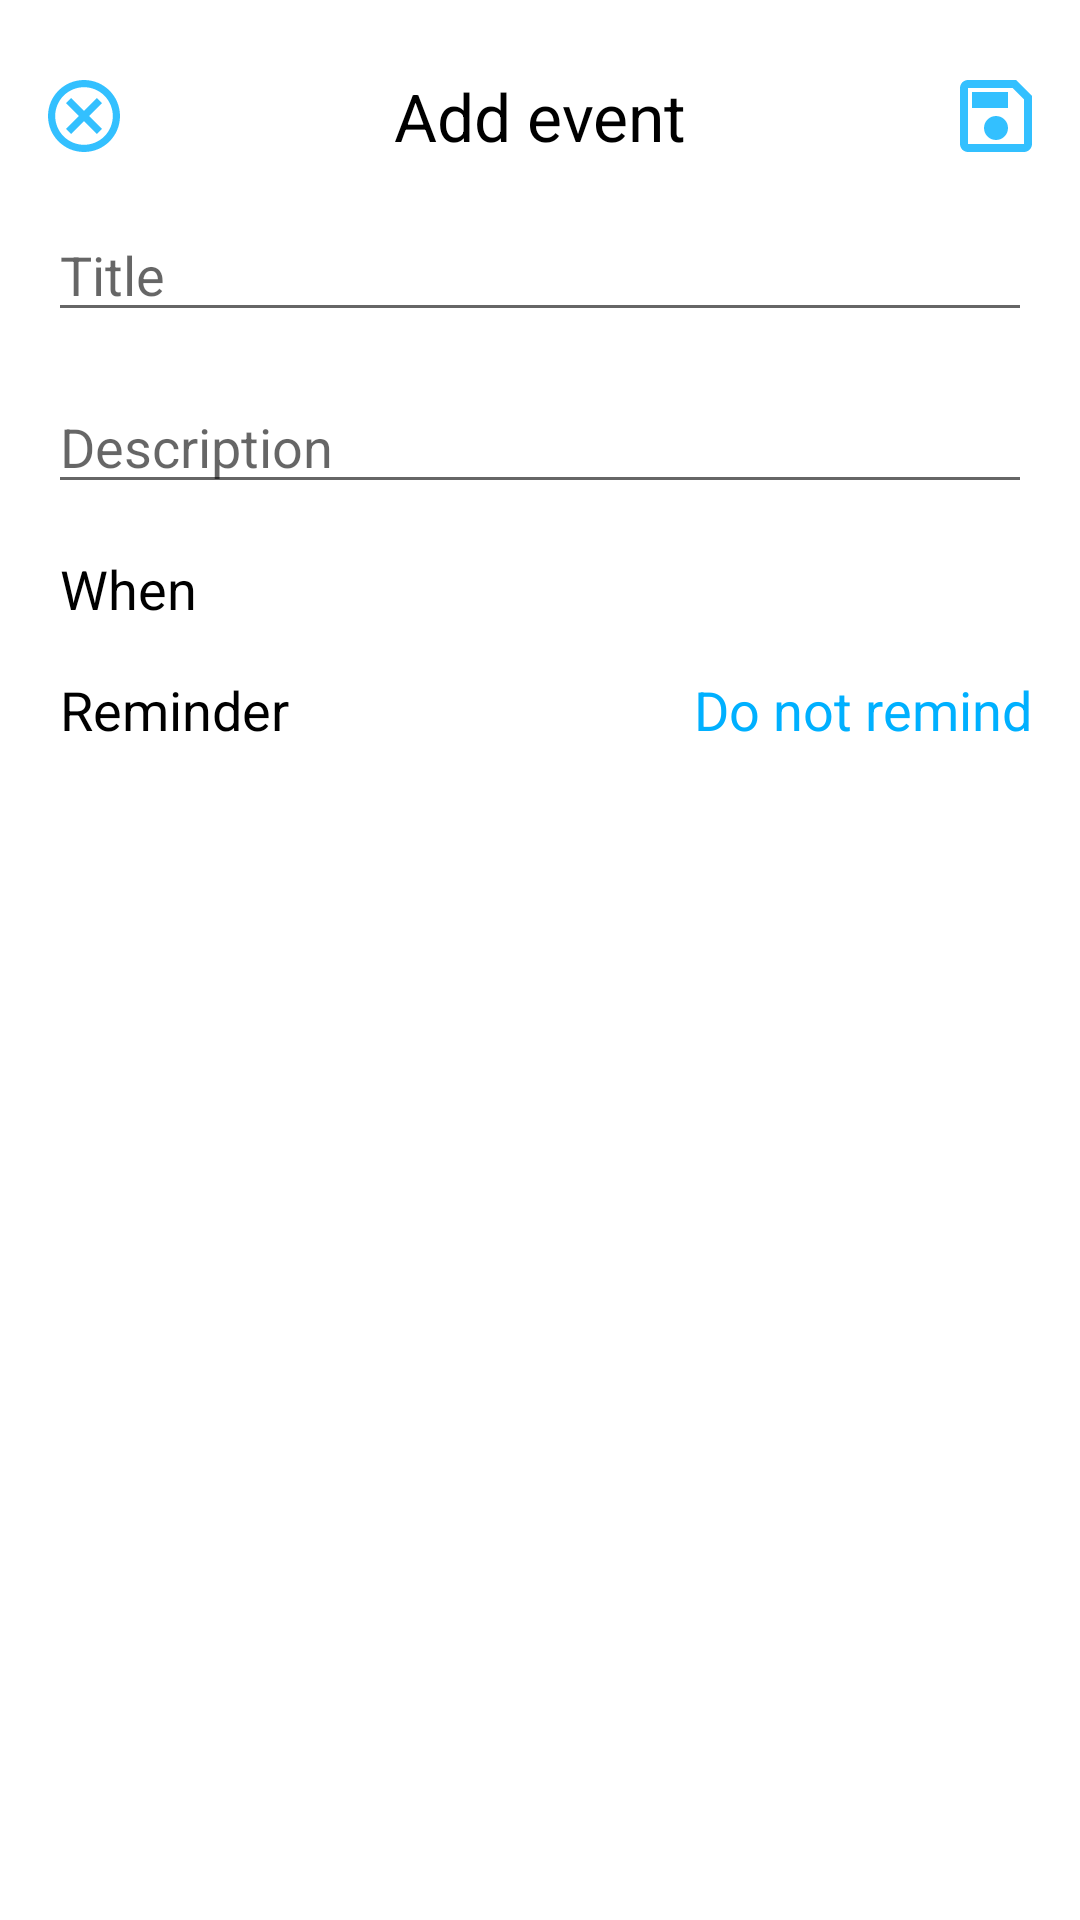

Locate icon controls on the screen. Image size 1080w x 1920h, boxes as (x1, y1, x2, y2).
Cancel: (48, 80, 120, 152)
save: (960, 80, 1032, 152)
